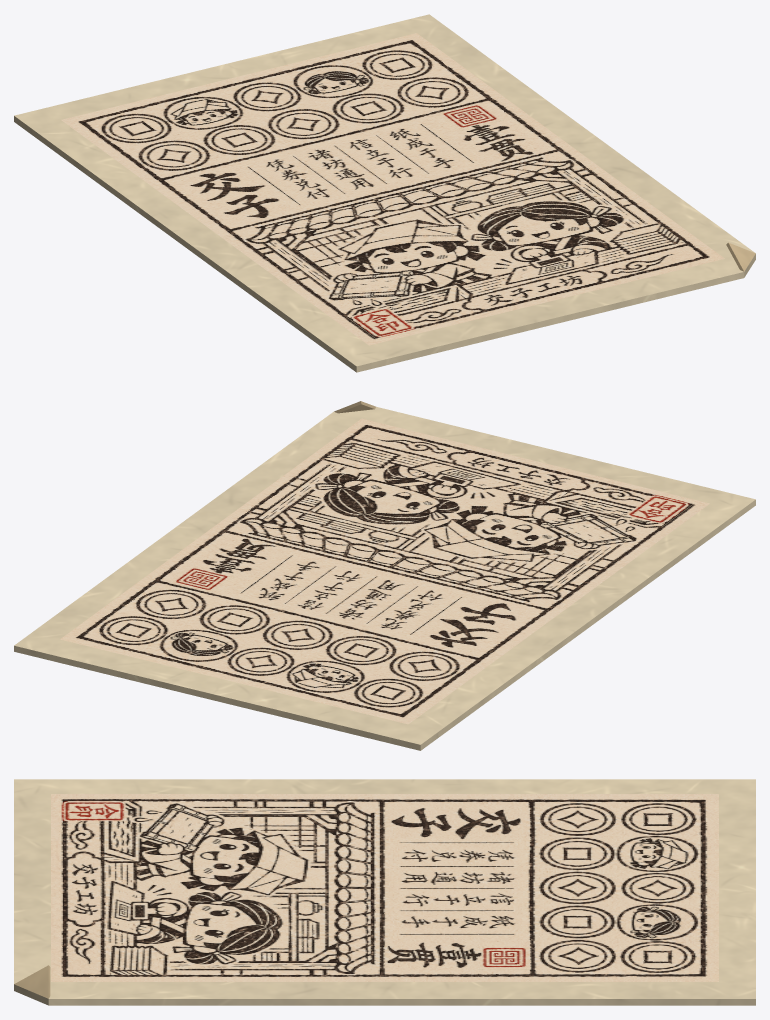
File: paper_red.glb
3 views of the same model, one above another, from view 1: azimuth 30°, elevation 25°; view 2: azimuth 150°, elevation 25°; view 3: azimuth 270°, elevation 25° (orthographic). The views are drawn at different scales.
Parts seen in each view (by area): view 1: paper_red__black_ink_layer, paper_red__paper_body, paper_red__red_seal_layer; view 2: paper_red__black_ink_layer, paper_red__paper_body, paper_red__red_seal_layer; view 3: paper_red__black_ink_layer, paper_red__paper_body, paper_red__red_seal_layer, paper_red__folded_corner.
Part boxes in pixels (box(x1,y1,x2,y2)): paper_red__black_ink_layer: box(61, 33, 724, 345); paper_red__paper_body: box(14, 14, 755, 372); paper_red__red_seal_layer: box(346, 102, 504, 339); paper_red__black_ink_layer: box(60, 418, 709, 724); paper_red__paper_body: box(14, 407, 755, 750); paper_red__red_seal_layer: box(168, 492, 694, 592); paper_red__black_ink_layer: box(51, 794, 718, 981); paper_red__paper_body: box(14, 779, 755, 1005); paper_red__red_seal_layer: box(58, 800, 529, 969); paper_red__folded_corner: box(14, 965, 50, 998).
Bounding box in the file's own units: 0.42 × 0.023 × 0.6.
3 materials, 3 textured.
